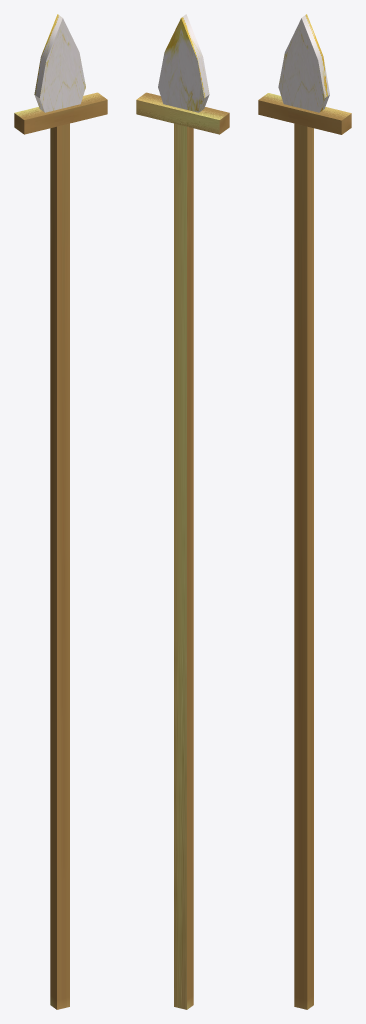
The model's file is Lança valkyria.fbx.
The picture shows the model from 3 angles, left to right: view 1: azimuth 30°, elevation 25°; view 2: azimuth 150°, elevation 25°; view 3: azimuth 330°, elevation 25°; orthographic projection.
Parts seen in each view (by area): view 1: pCube6; view 2: pCube6; view 3: pCube6.
Part boxes in pixels (x1,y1,x2,y2): pCube6: [14, 14, 107, 1009]; pCube6: [136, 14, 229, 1009]; pCube6: [258, 14, 351, 1009].
Bounding box in the file's own units: 1 × 11.32 × 0.2083.
2 materials, 2 textured.
